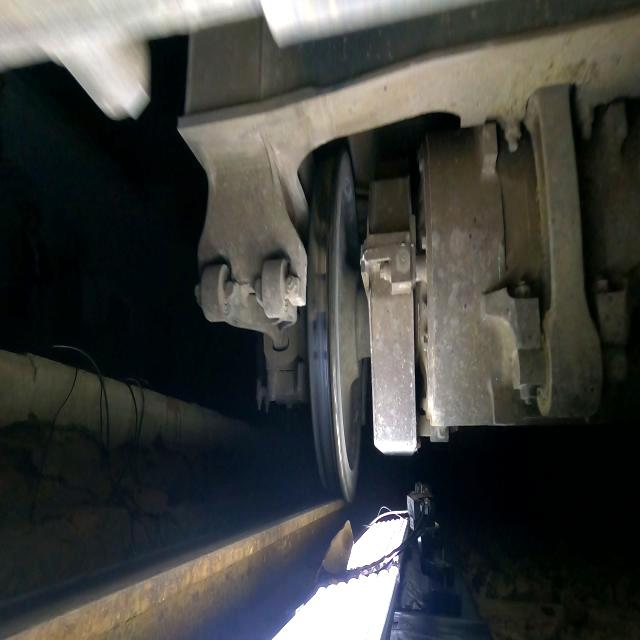Cracks-Scratches: (330, 363, 346, 488)
Discoloration: (314, 387, 338, 488), (311, 344, 328, 361), (311, 319, 326, 334)
Shelling: (310, 235, 327, 323)
Wheel: (308, 147, 365, 503)
